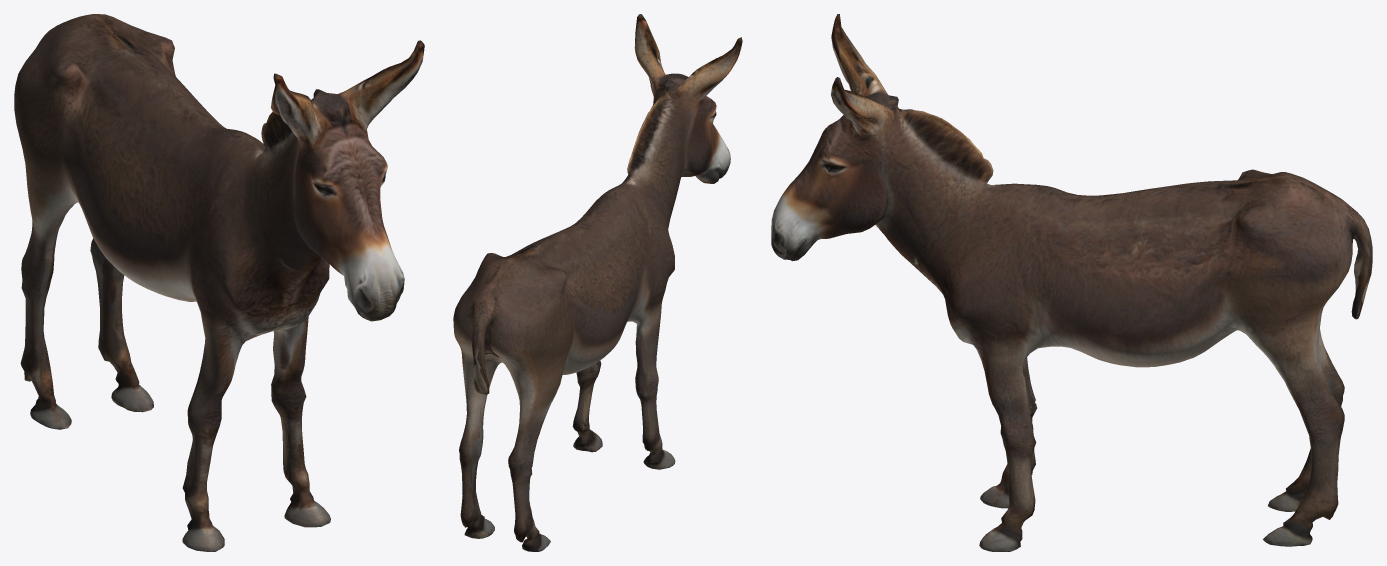
Rendered from a157_esek.glb.
The picture shows the model from 3 angles, left to right: view 1: azimuth 30°, elevation 25°; view 2: azimuth 150°, elevation 25°; view 3: azimuth 270°, elevation 25°; orthographic projection. The views are drawn at different scales.
Visible parts, largest first — view 1: Mesh1.0; view 2: Mesh1.0; view 3: Mesh1.0.
Part boxes in pixels (x1,y1,x2,y2): Mesh1.0: (14,14,424,551); Mesh1.0: (453,14,742,551); Mesh1.0: (771,14,1372,551).
Bounding box in the file's own units: 0.5034 × 1.75 × 1.99.
1 material, 1 textured.
